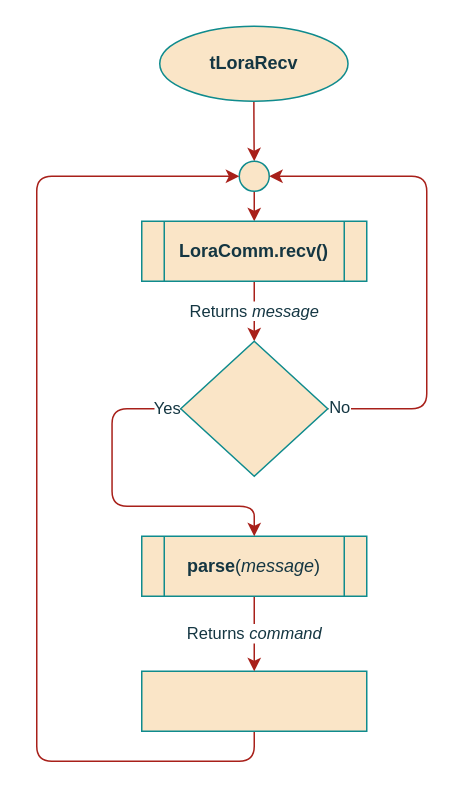
Image size: 465x800. Some labels were removed from this diagram. The centre of each missing label's shape, as x and y in pixels:
"Execute command" belongs at (x=253, y=700).
"message was received?" belongs at (x=253, y=408).
